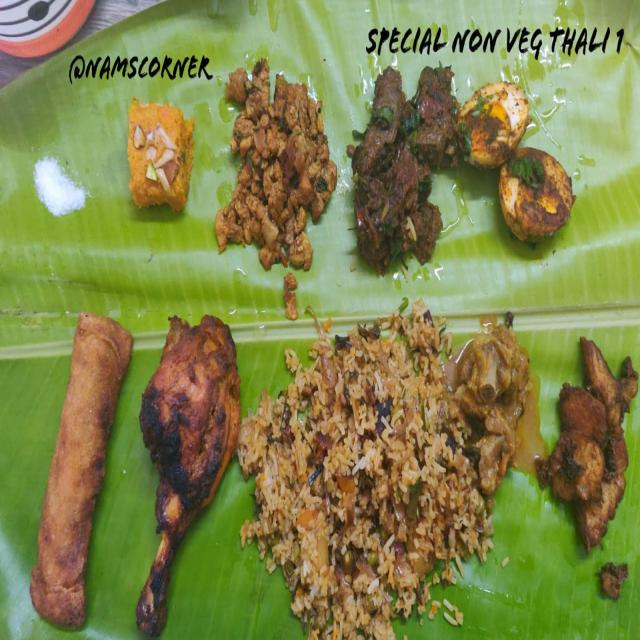non veg meals: (21, 55, 640, 640)
